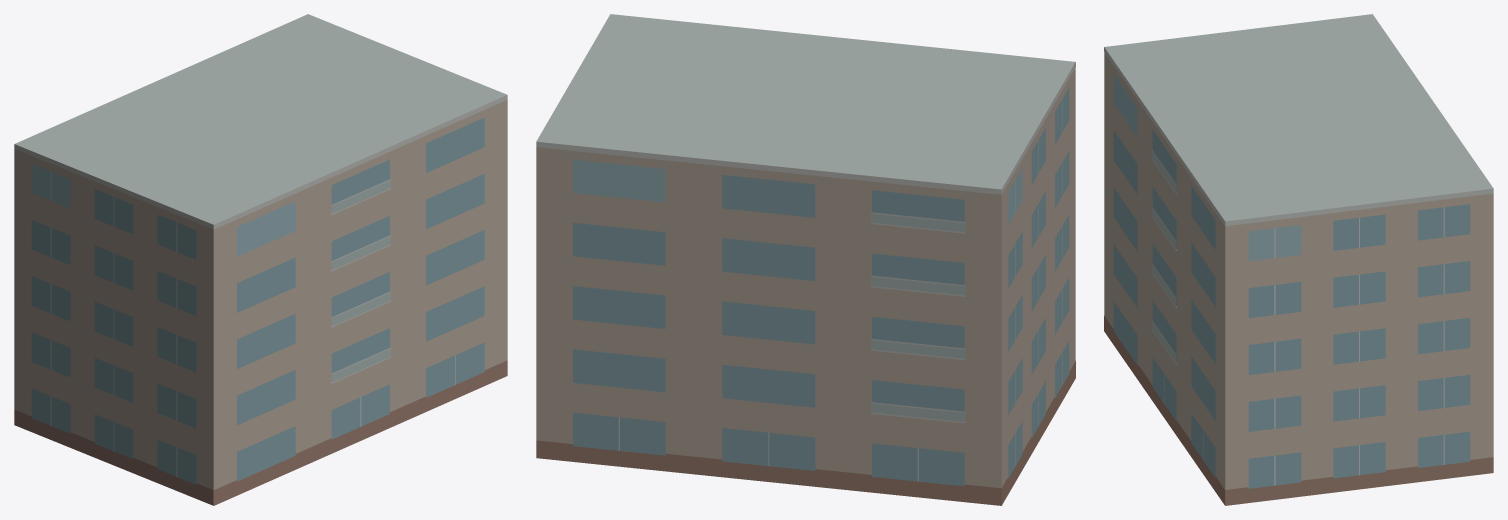
Rendered from survey-upis-32931893.glb.
3 renders of one model, left to right at view 1: azimuth 30°, elevation 25°; view 2: azimuth 150°, elevation 25°; view 3: azimuth 270°, elevation 25°, orthographic. The views are drawn at different scales.
Parts seen in each view (by area): view 1: survey-upis-32931893.tmp; view 2: survey-upis-32931893.tmp; view 3: survey-upis-32931893.tmp.
Part boxes in pixels (left/top/right/bottom): survey-upis-32931893.tmp: left=14, top=14, right=507, bottom=505; survey-upis-32931893.tmp: left=536, top=14, right=1075, bottom=505; survey-upis-32931893.tmp: left=1104, top=14, right=1493, bottom=505.
Bounding box in the file's own units: 22.39 × 14.3 × 17.76.
